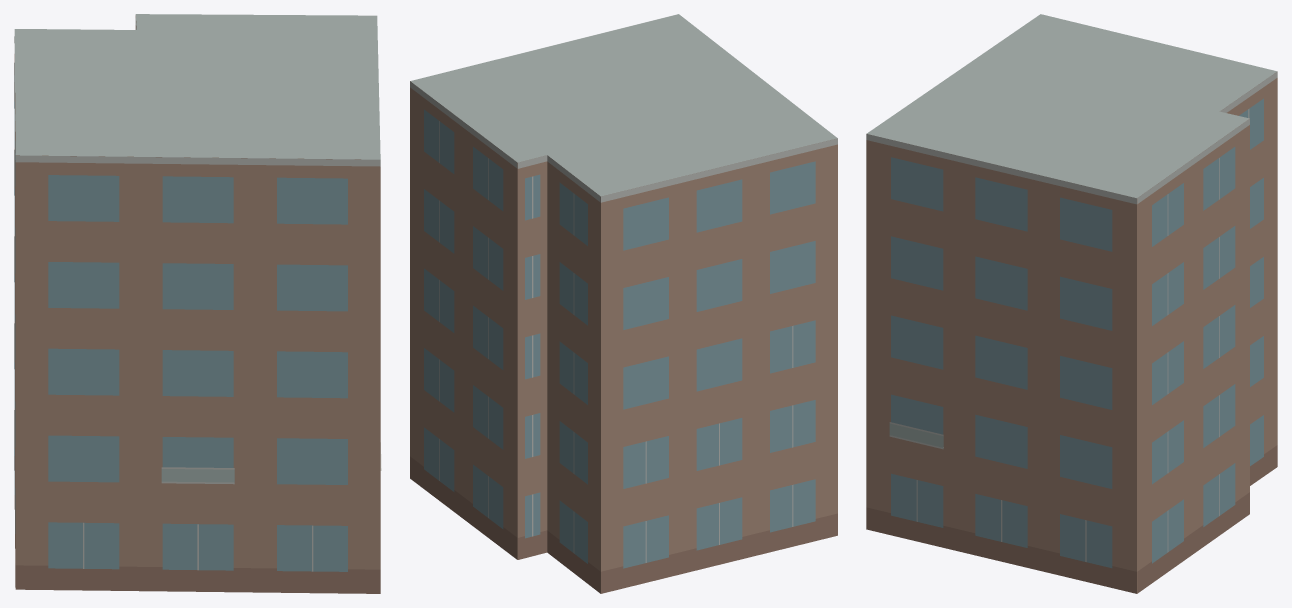
File: survey-upis-32778350.glb
The picture shows the model from 3 angles, left to right: view 1: azimuth 30°, elevation 25°; view 2: azimuth 150°, elevation 25°; view 3: azimuth 270°, elevation 25°; orthographic projection. The views are drawn at different scales.
Parts seen in each view (by area): view 1: survey-upis-32778350.tmp; view 2: survey-upis-32778350.tmp; view 3: survey-upis-32778350.tmp.
Boxes of the visible parts, x1,y1,x2,y2 form: survey-upis-32778350.tmp: (14, 14, 381, 593); survey-upis-32778350.tmp: (410, 14, 837, 593); survey-upis-32778350.tmp: (866, 14, 1277, 593).
Bounding box in the file's own units: 15.54 × 15.55 × 14.66.
